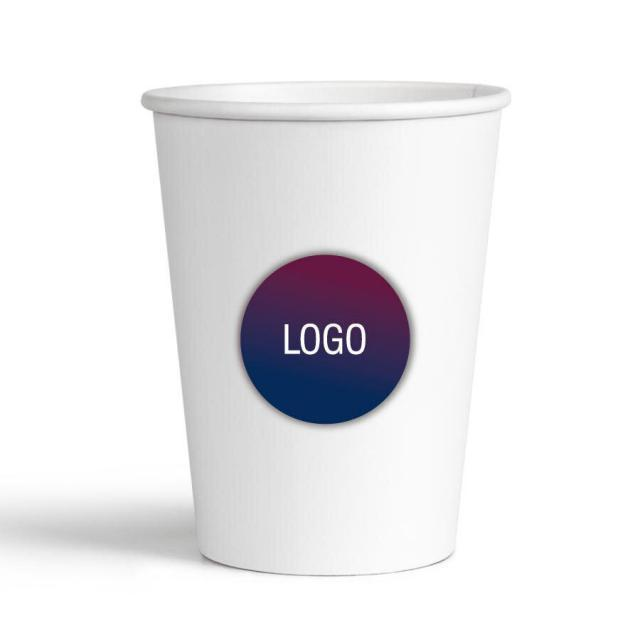trash: (133, 74, 535, 590)
